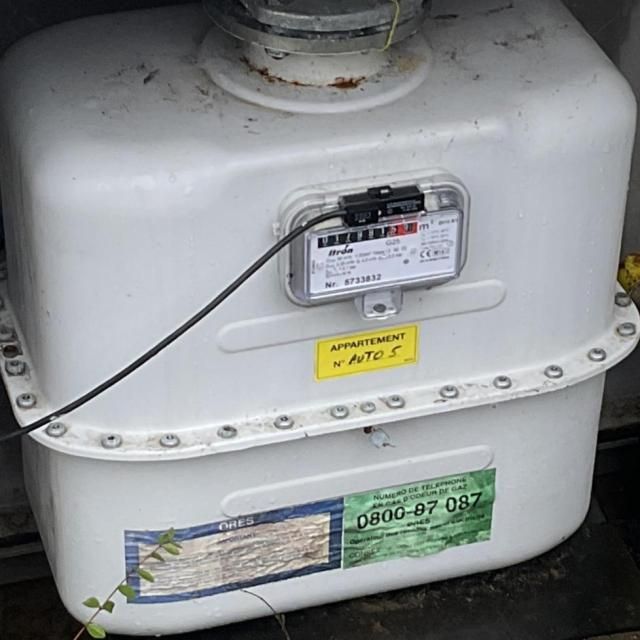gaz_meter: (308, 210, 459, 298)
indication: (319, 222, 416, 247)
